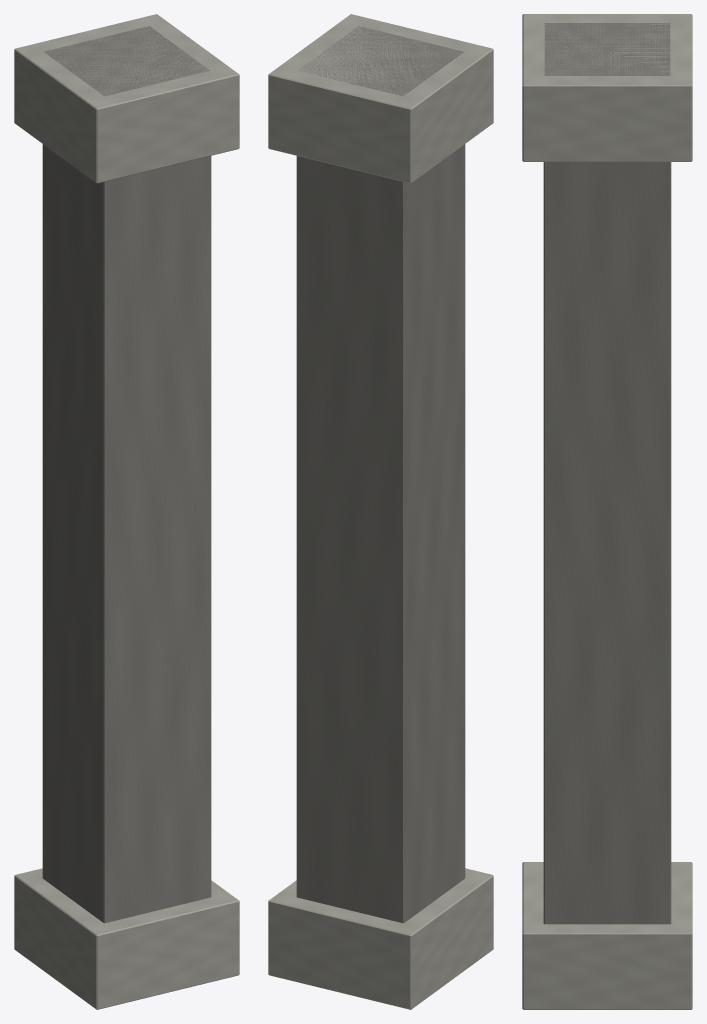
File: U09_AncientTie_visual.glb
The picture shows the model from 3 angles, left to right: view 1: azimuth 30°, elevation 25°; view 2: azimuth 150°, elevation 25°; view 3: azimuth 270°, elevation 25°; orthographic projection. The views are drawn at different scales.
Parts seen in each view (by area): view 1: U09_AncientTie__VIS_shell; view 2: U09_AncientTie__VIS_shell; view 3: U09_AncientTie__VIS_shell.
Part boxes in pixels (bbox=[...]): U09_AncientTie__VIS_shell: bbox=[14, 14, 239, 1009]; U09_AncientTie__VIS_shell: bbox=[268, 14, 493, 1009]; U09_AncientTie__VIS_shell: bbox=[522, 14, 692, 1009].
Size of the model in its own units: 4 by 24 by 4.
1 material, 1 textured.
